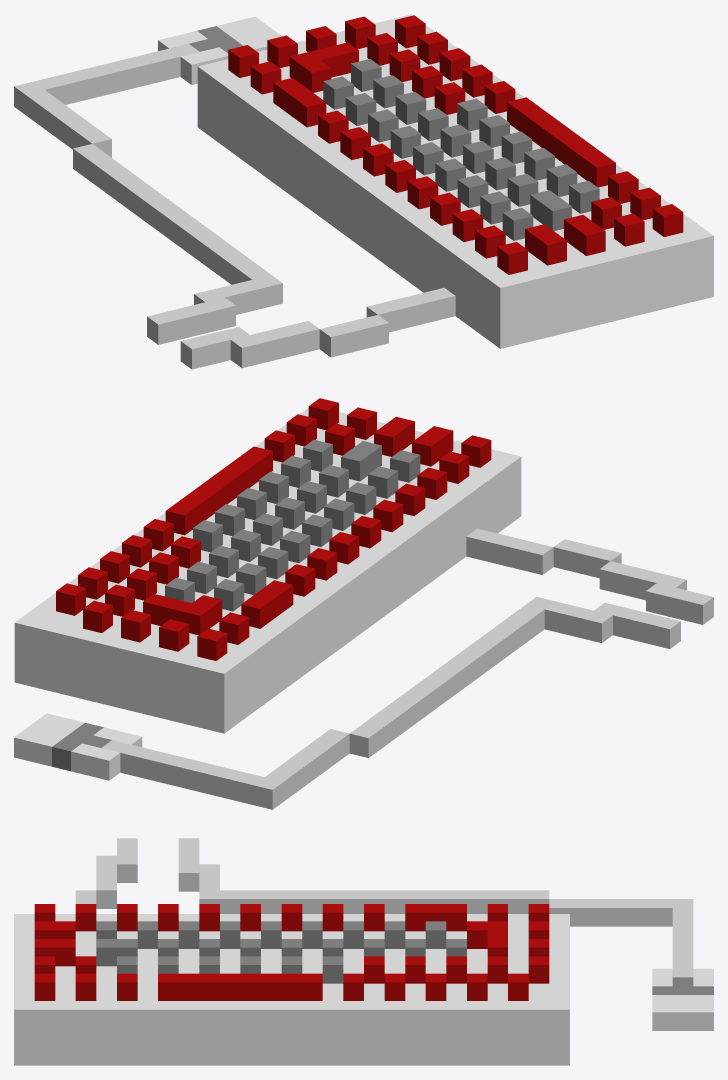
The model's file is keyboard.glb.
3 views of the same model, one above another, from view 1: azimuth 30°, elevation 25°; view 2: azimuth 150°, elevation 25°; view 3: azimuth 270°, elevation 25° (orthographic). The views are drawn at different scales.
Parts seen in each view (by area): view 1: Untitled; view 2: Untitled; view 3: Untitled.
Part boxes in pixels (<box>): Untitled: <box>14,14,713,369</box>; Untitled: <box>14,398,713,809</box>; Untitled: <box>14,838,713,1065</box>.
Size of the model in its own units: 2.4 by 0.4 by 3.4.
Materials: 1 (1 with a texture image).
